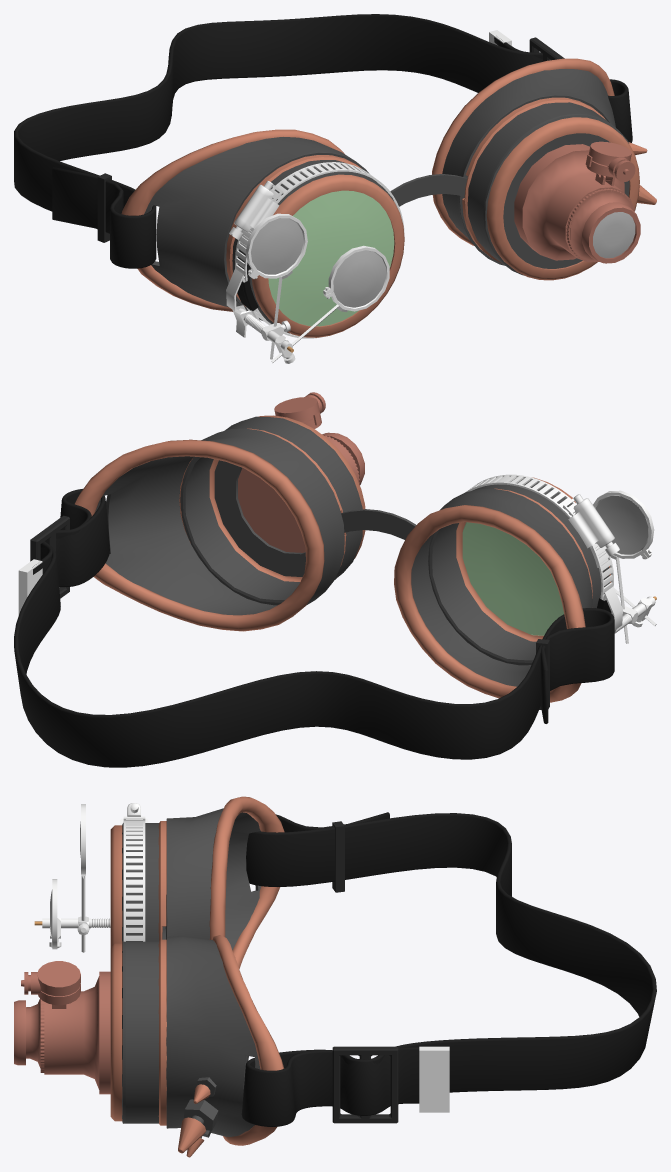
The model's file is goggles.fbx.
3 renders of one model, top to bottom at view 1: azimuth 30°, elevation 25°; view 2: azimuth 150°, elevation 25°; view 3: azimuth 270°, elevation 25°, orthographic. The views are drawn at different scales.
Visible parts, largest first — view 1: NurbsPath, Cylinder.005, Cylinder.002, Cylinder.013, Cylinder.001, Cylinder.008, Cylinder.003, Cylinder.009, Cylinder.022, Cylinder.034, Cylinder.007, Cylinder.052 (+15 smaller); view 2: NurbsPath, Cylinder.001, Cylinder.034, Cylinder.009, Cylinder.022, Cylinder.005, Cylinder.002, Cylinder.004, Cylinder.007, Cylinder.013, Cylinder.053, Cylinder.006 (+9 smaller); view 3: NurbsPath, Cylinder.001, Cylinder.005, Cylinder.009, Cylinder.013, Cylinder.022, Cylinder.034, Cylinder.004, Cylinder.006, Plane.004, Cylinder.008, Cube.007 (+9 smaller).
Boxes of the visible parts, box(x1,y1,x2,y2) form: NurbsPath: box(14, 14, 632, 268); Cylinder.005: box(144, 137, 369, 320); Cylinder.002: box(268, 190, 394, 326); Cylinder.013: box(514, 144, 634, 262); Cylinder.001: box(442, 69, 615, 265); Cylinder.008: box(486, 117, 639, 280); Cylinder.003: box(252, 174, 404, 337); Cylinder.009: box(467, 102, 629, 275); Cylinder.022: box(121, 129, 344, 311); Cylinder.034: box(432, 58, 614, 245); Cylinder.007: box(503, 133, 629, 268); Cylinder.052: box(333, 250, 385, 307); NurbsPath: box(14, 489, 614, 767); Cylinder.001: box(95, 428, 344, 615); Cylinder.034: box(75, 439, 324, 631); Cylinder.009: box(180, 416, 362, 605); Cylinder.022: box(394, 505, 585, 702); Cylinder.005: box(411, 488, 592, 686); Cylinder.002: box(462, 522, 563, 635); Cylinder.004: box(428, 478, 609, 665); Cylinder.007: box(214, 460, 305, 576); Cylinder.013: box(238, 434, 358, 552); Cylinder.053: box(595, 495, 648, 554); Cylinder.006: box(465, 474, 613, 599); NurbsPath: box(241, 812, 656, 1126); Cylinder.001: box(166, 935, 260, 1136); Cylinder.005: box(165, 808, 261, 949); Cylinder.009: box(122, 941, 158, 1123); Cylinder.013: box(44, 971, 110, 1094); Cylinder.022: box(209, 796, 284, 968); Cylinder.034: box(212, 935, 284, 1145); Cylinder.004: box(122, 823, 165, 942); Cylinder.006: box(123, 816, 145, 941); Plane.004: box(332, 1046, 398, 1123); Cylinder.008: box(110, 943, 122, 1121); Cube.007: box(419, 1046, 449, 1112).
Size of the model in its own units: 670 by 219 by 695.
